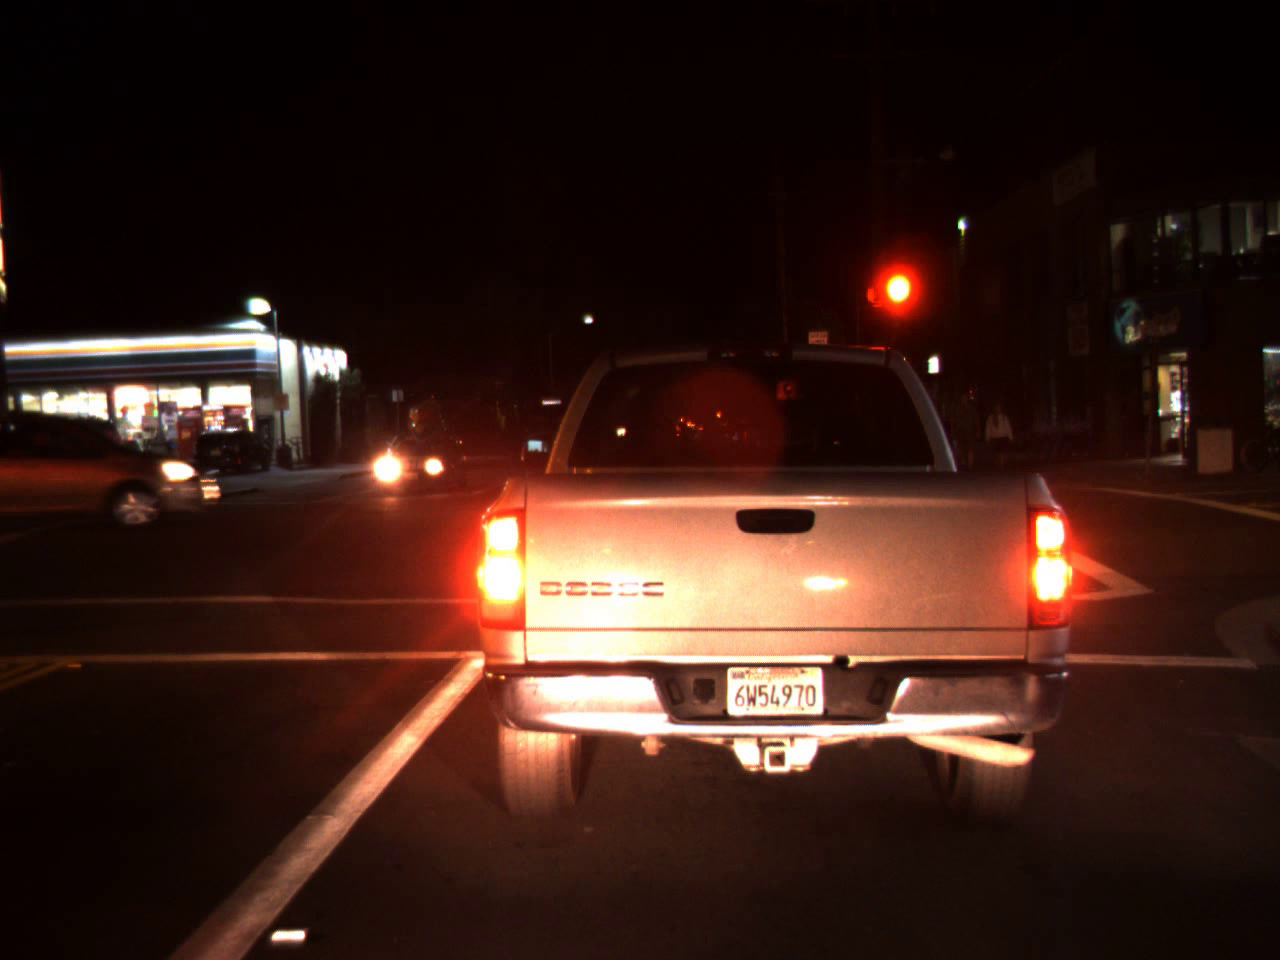stop: (879, 268, 916, 343)
